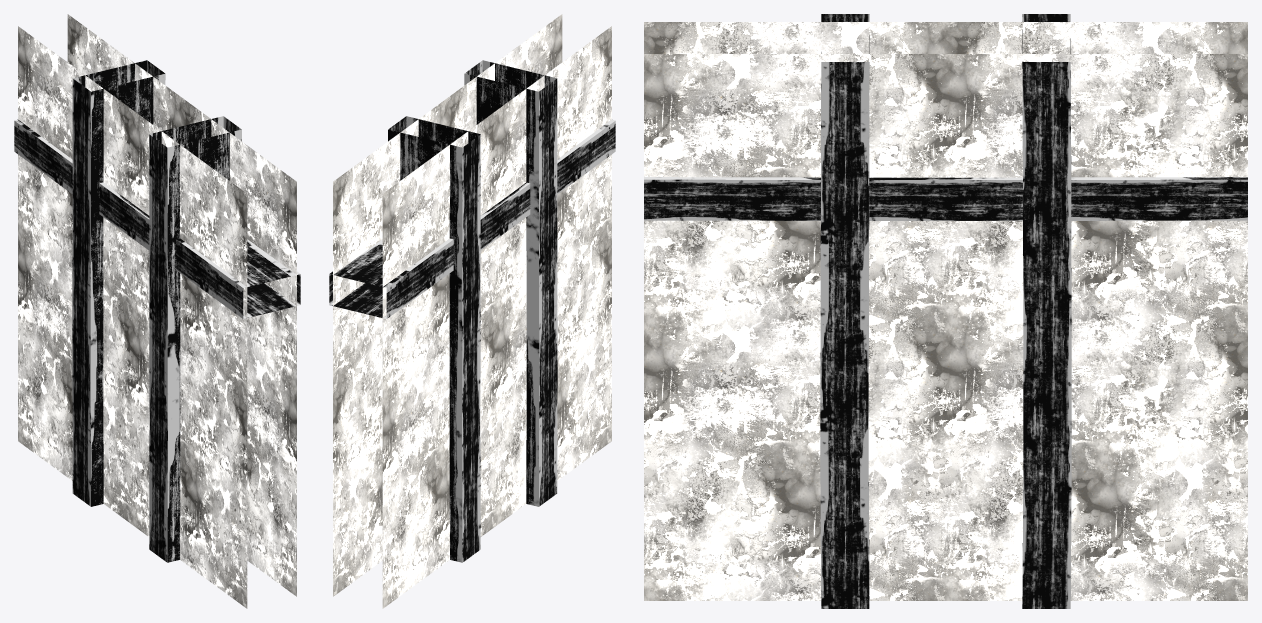
Rendered from SM_wall_A_4x4_02_02.fbx.
3 renders of one model, left to right at view 1: azimuth 30°, elevation 25°; view 2: azimuth 150°, elevation 25°; view 3: azimuth 270°, elevation 25°, orthographic. The views are drawn at different scales.
Visible parts, largest first — view 1: SM_wall_A_4x4_02_02_LOD0; view 2: SM_wall_A_4x4_02_02_LOD0; view 3: SM_wall_A_4x4_02_02_LOD0.
Boxes of the visible parts, x1,y1,x2,y2 form: SM_wall_A_4x4_02_02_LOD0: (14,14,300,608); SM_wall_A_4x4_02_02_LOD0: (329,14,615,608); SM_wall_A_4x4_02_02_LOD0: (644,14,1247,608).
Bounding box in the file's own units: 75 × 400 × 400.
Materials: 3 (3 with a texture image).
